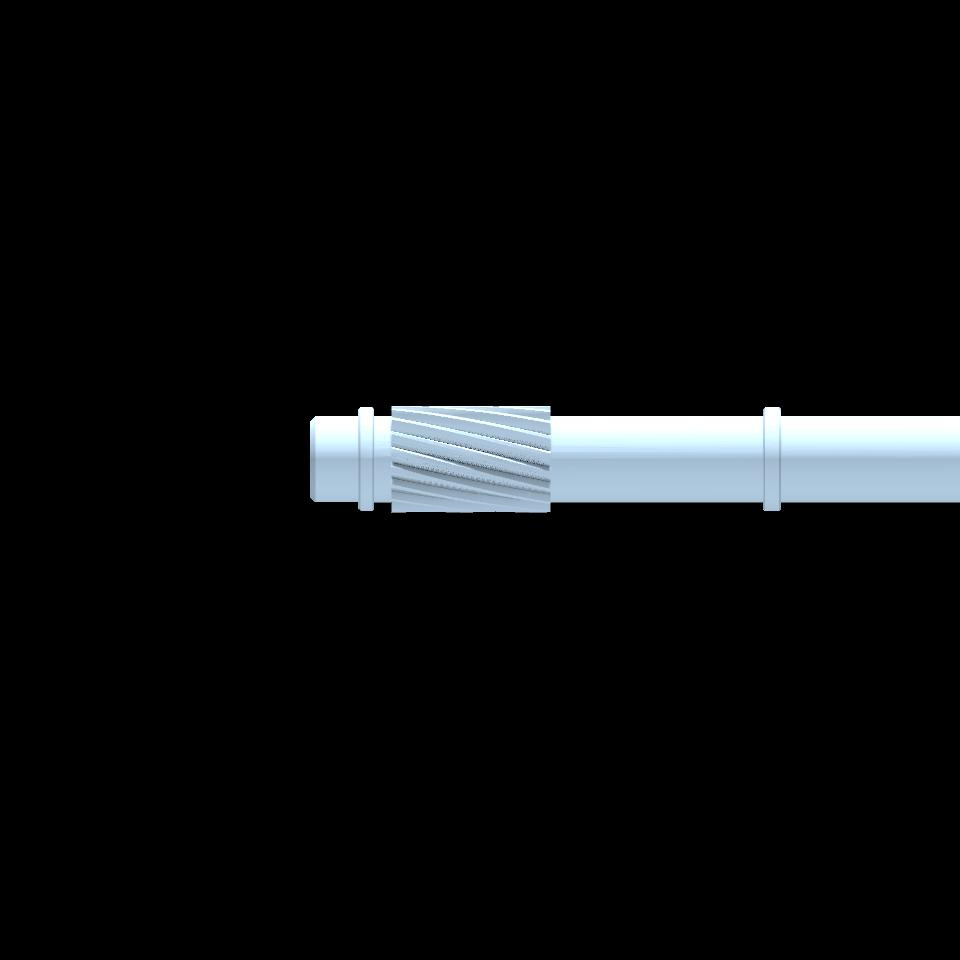Helical: (392, 406, 550, 514)
